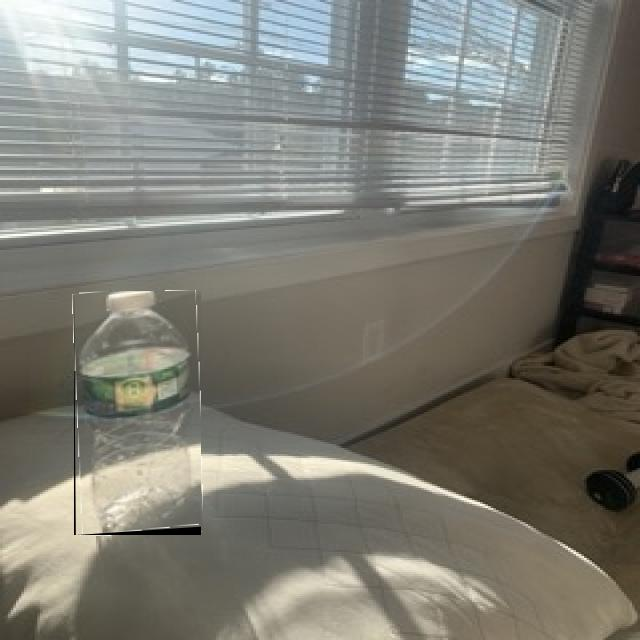water_bottle: (74, 291, 201, 535)
